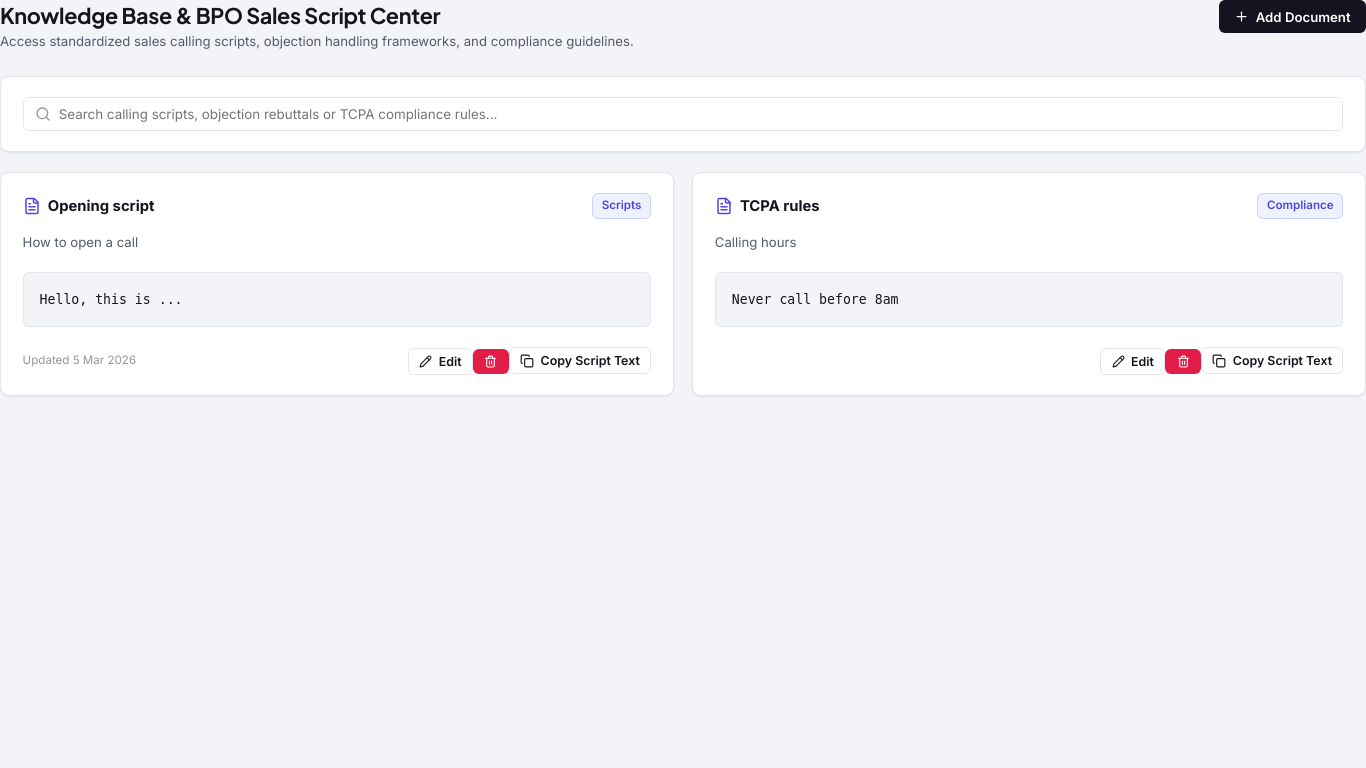
Test: KnowledgeBase › will not publish without a title or without text
Step 1. Click the button "Add Document" → (1292, 17), box [1219, 0, 1365, 33]
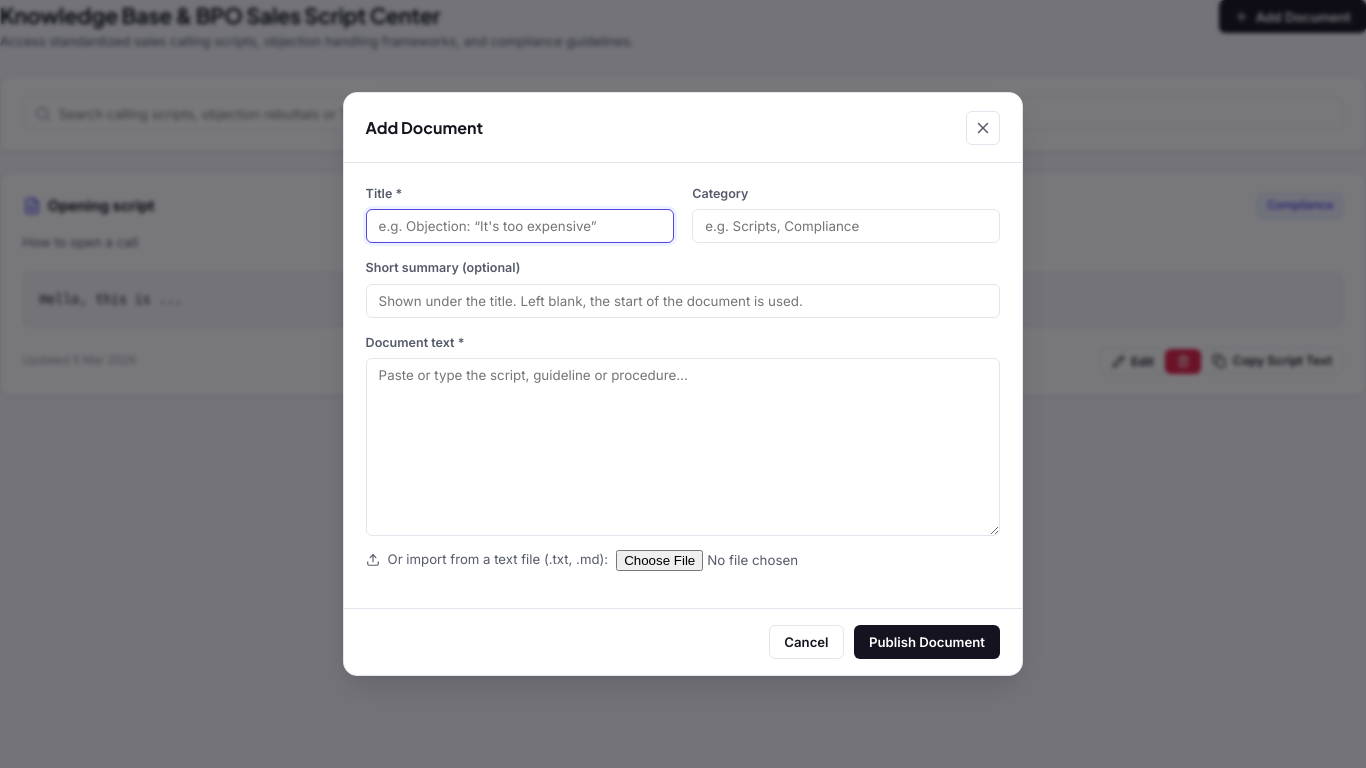
Step 2. Click the button "Publish Document" → (927, 642), box [854, 626, 1000, 659]
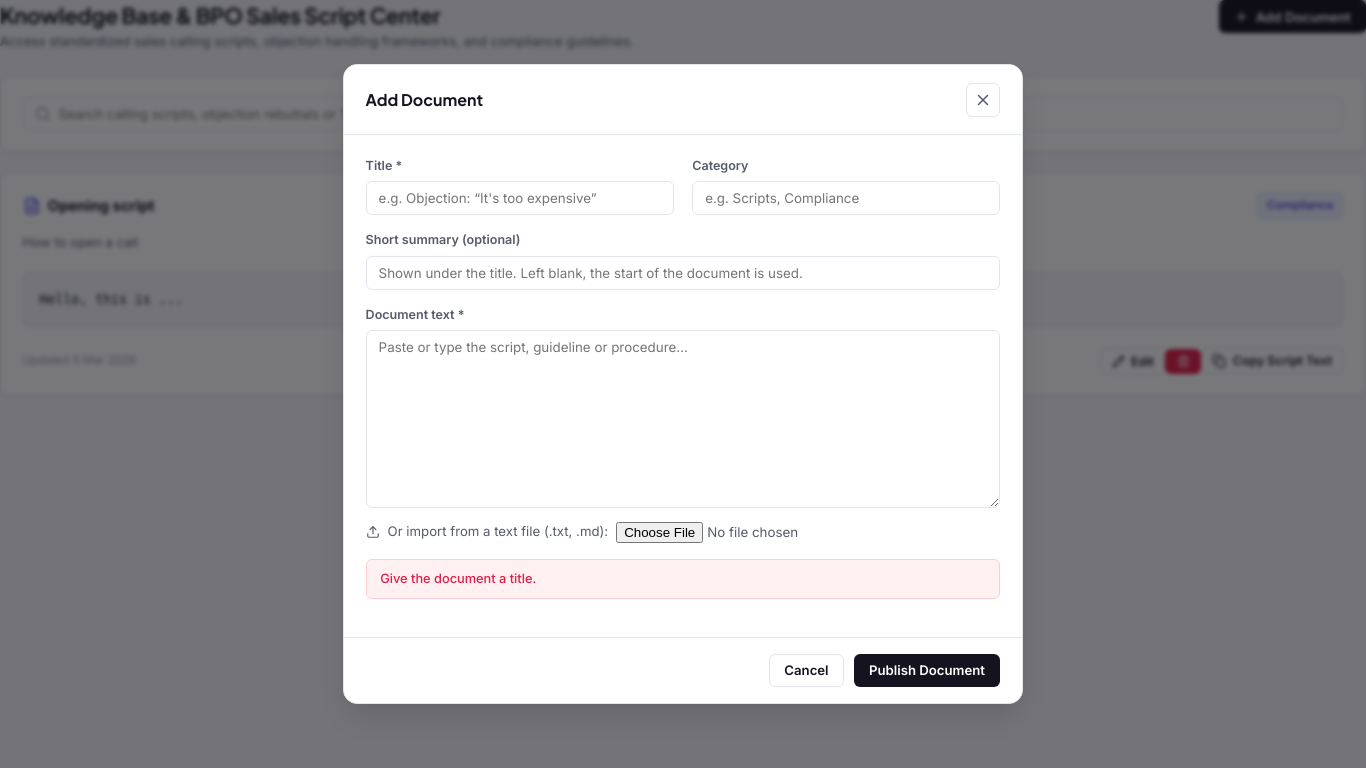
Expected: the message shows "Give the document a title", [380, 571, 536, 586]
Step 3. Type "Only a title" into the field labelled "Title *" → (520, 198), box [366, 181, 674, 215]
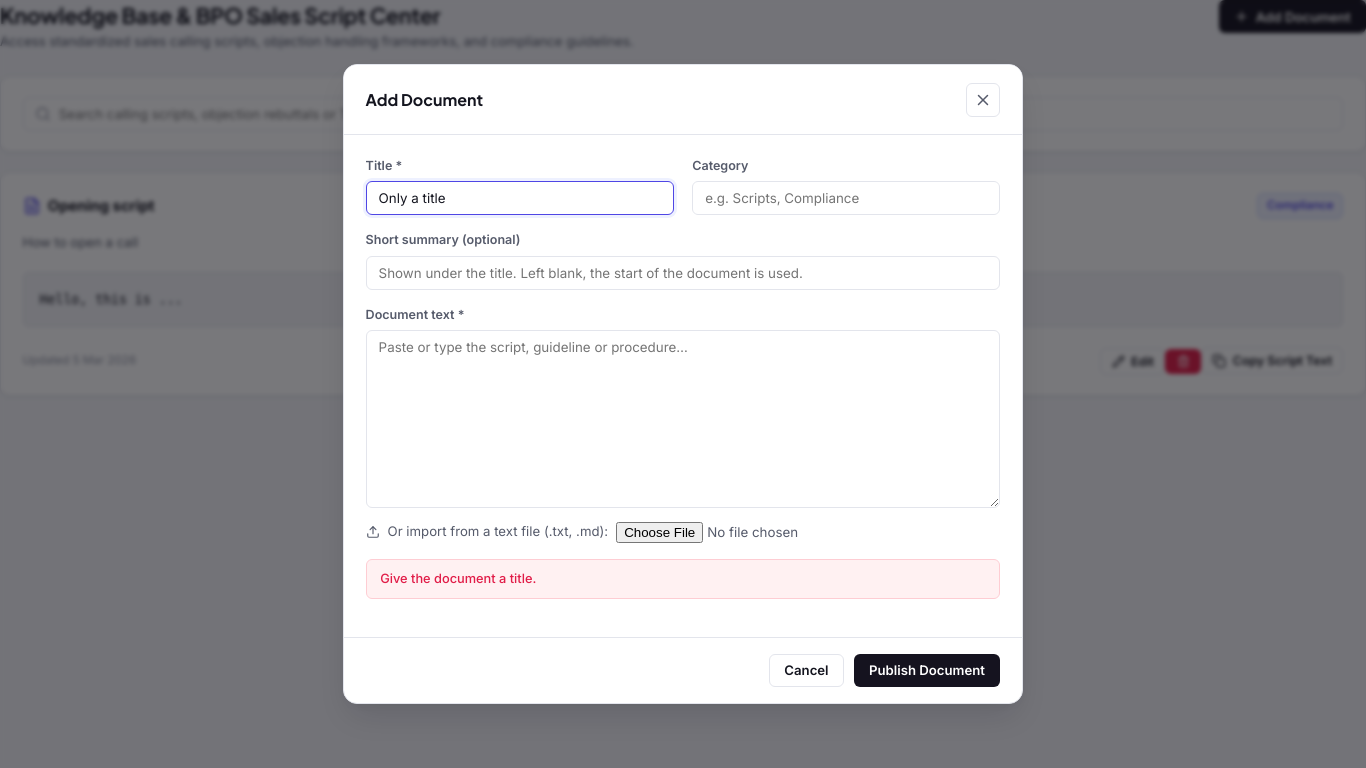
Step 4. Click the button "Publish Document" → (927, 670), box [854, 654, 1000, 687]
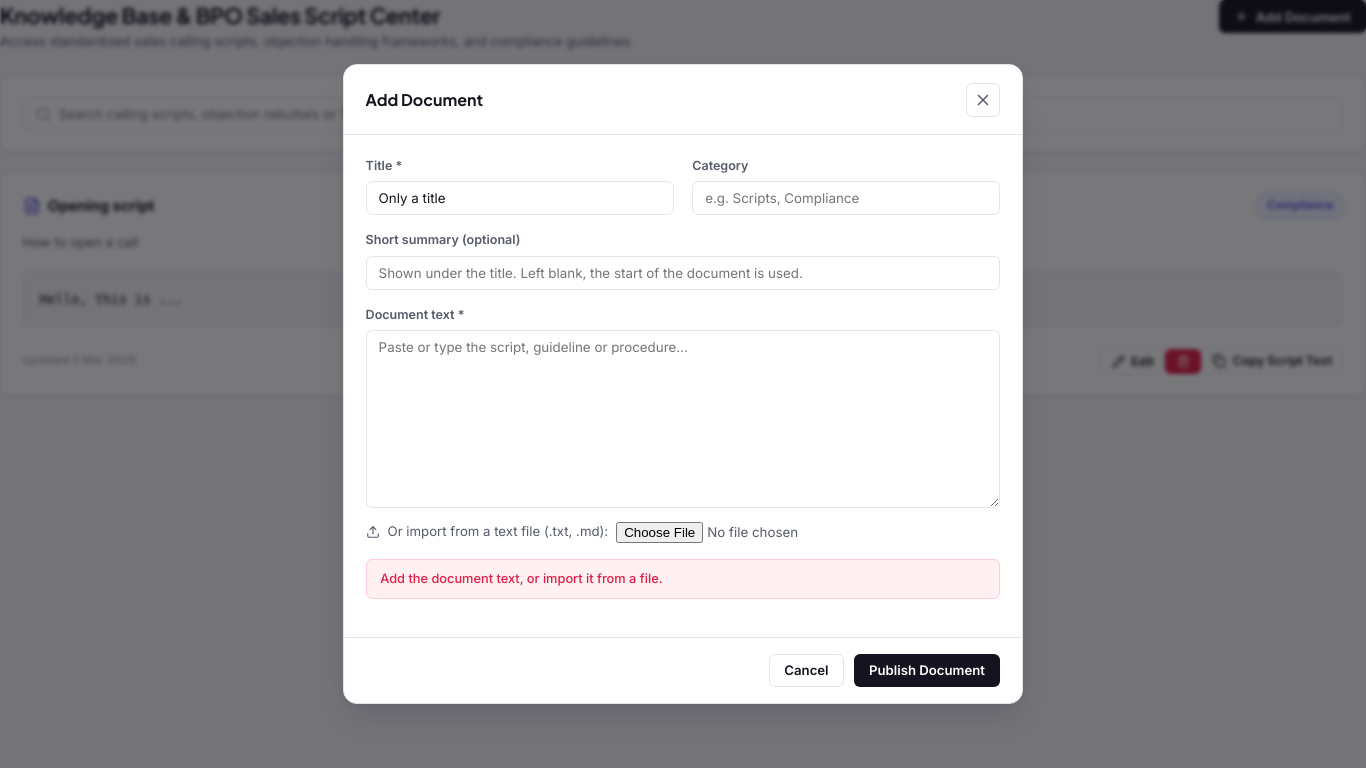
Expected: the message shows "Add the document text", [380, 571, 662, 586]
